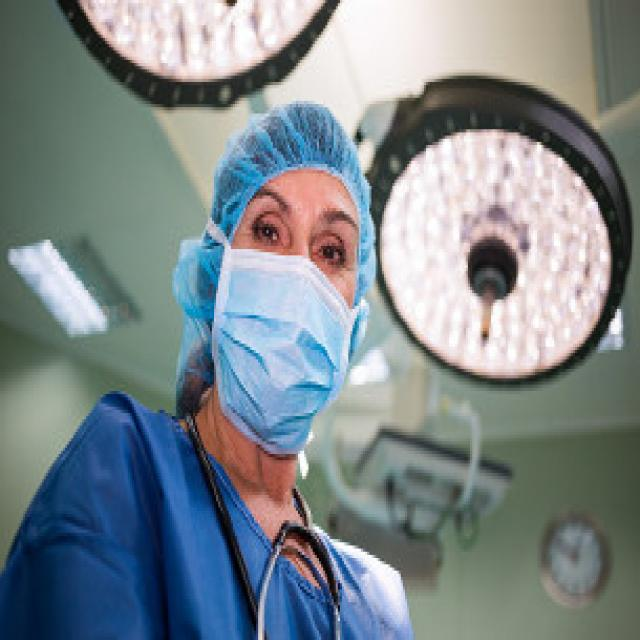mask: (213, 166, 358, 427)
